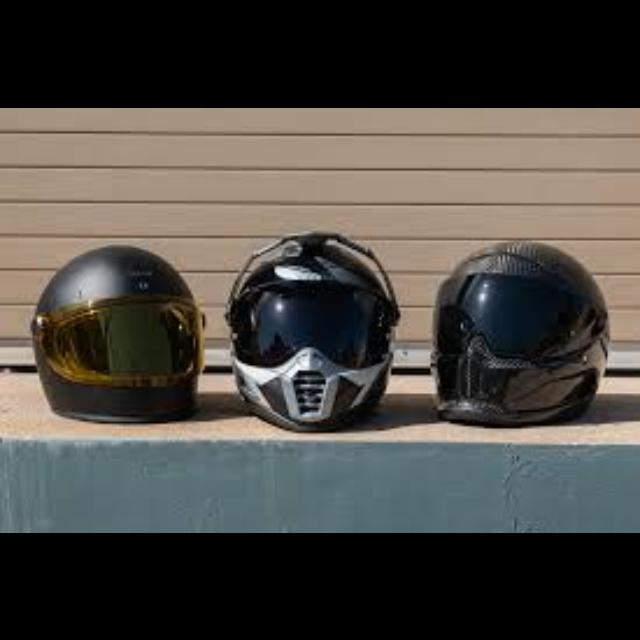motorcycle-helmets: (427, 238, 619, 428), (228, 228, 400, 430), (27, 247, 211, 428)
